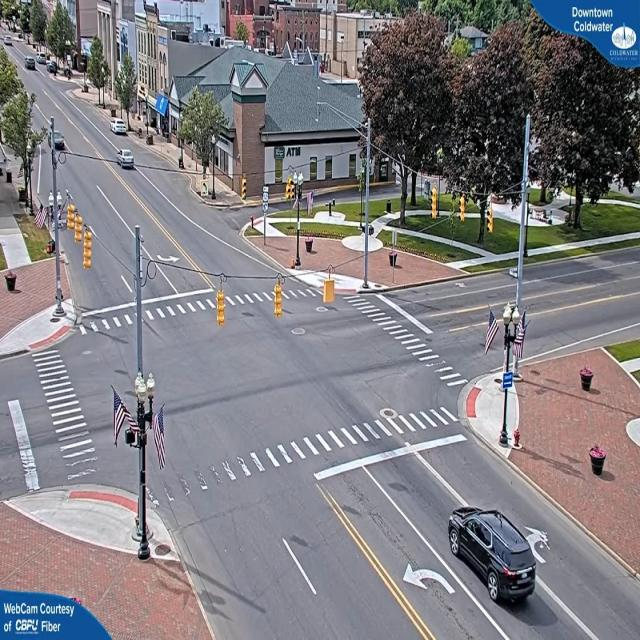car: (447, 507, 542, 608), (118, 150, 138, 170), (112, 121, 130, 138), (26, 58, 38, 71)
